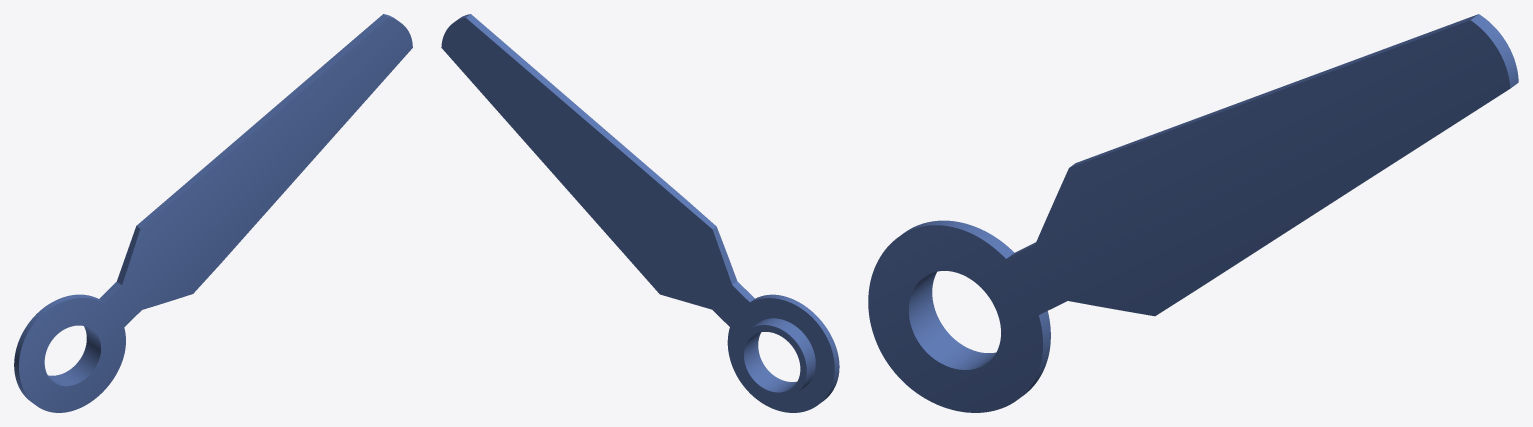
File: hand.glb
3 renders of one model, left to right at view 1: azimuth 30°, elevation 25°; view 2: azimuth 150°, elevation 25°; view 3: azimuth 330°, elevation 25°, orthographic. The views are drawn at different scales.
Parts seen in each view (by area): view 1: clock_hand_loose; view 2: clock_hand_loose; view 3: clock_hand_loose.
Part boxes in pixels (x1,y1,x2,y2): clock_hand_loose: (14,14,412,412); clock_hand_loose: (441,14,839,412); clock_hand_loose: (868,14,1518,412).
Bounding box in the file's own units: 0.00625 × 0.00481 × 0.0004.
